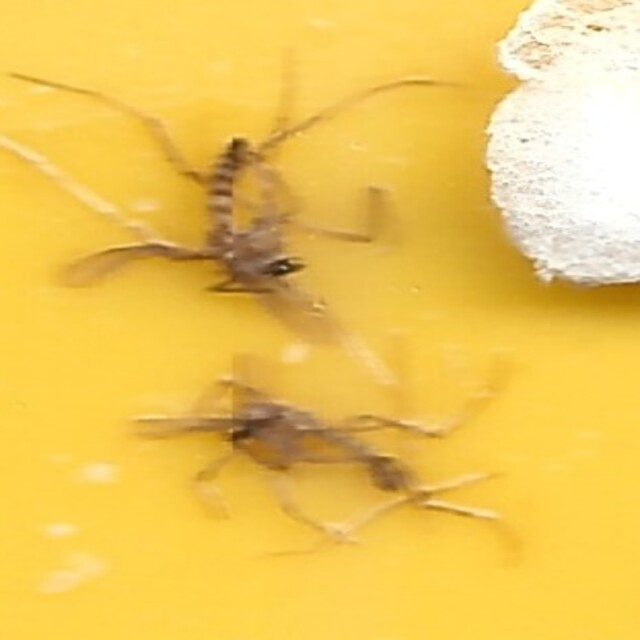Nematocera: (222, 402, 434, 504), (206, 136, 313, 305)
